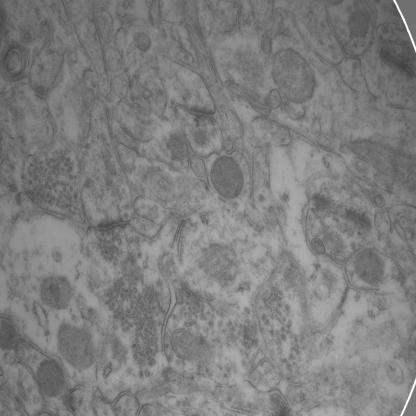mitochondria: (270, 51, 316, 103), (198, 241, 242, 285), (57, 323, 94, 368), (210, 157, 244, 200), (38, 274, 76, 310), (171, 329, 207, 363), (36, 357, 67, 396), (354, 251, 384, 287), (167, 132, 190, 165), (0, 318, 21, 352), (347, 10, 370, 38)
